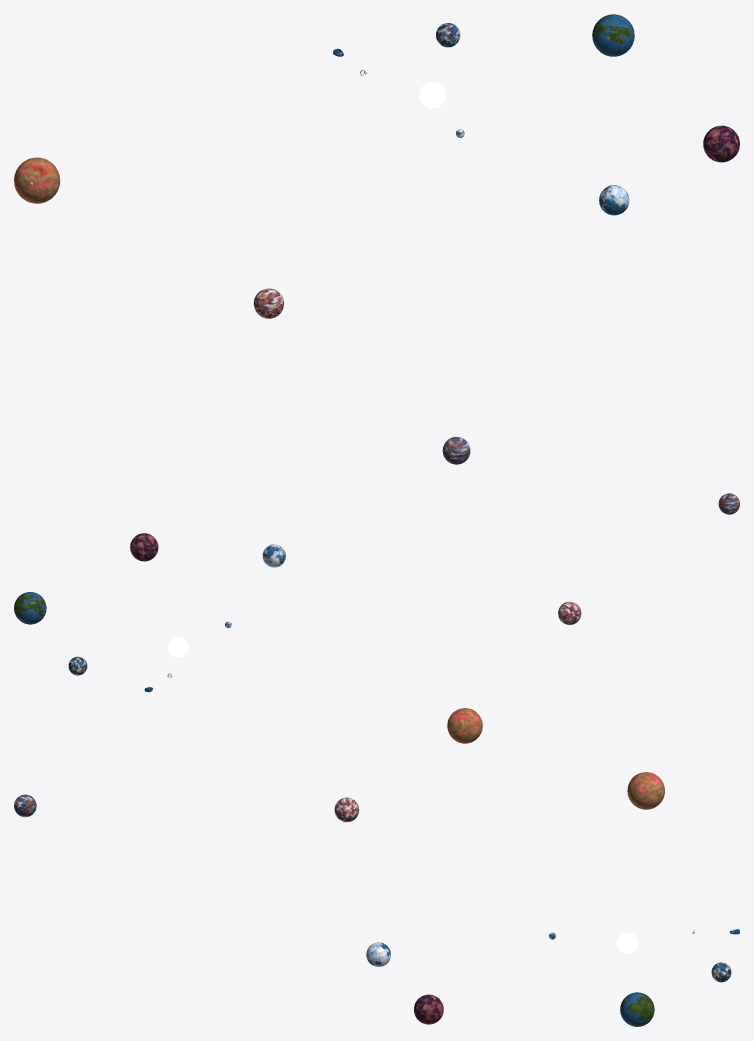
File: trito.glb
3 views of the same model, one above another, from view 1: azimuth 30°, elevation 25°; view 2: azimuth 150°, elevation 25°; view 3: azimuth 270°, elevation 25° (orthographic). The views are drawn at different scales.
Parts seen in each view (by area): view 1: Sphere.003_0, Sphere.008_0, Sphere.006_0, Sphere.005_0, Sphere.002_0; view 2: Sphere.003_0, Sphere.008_0, Sphere.006_0, Sphere.005_0, Sphere.002_0; view 3: Sphere.003_0, Sphere.008_0, Sphere.006_0, Sphere.005_0, Sphere.002_0.
Boxes of the visible parts, bbox=[...] form: Sphere.003_0: bbox=[14, 157, 60, 203]; Sphere.008_0: bbox=[592, 14, 634, 56]; Sphere.006_0: bbox=[703, 125, 739, 162]; Sphere.005_0: bbox=[599, 185, 629, 215]; Sphere.002_0: bbox=[253, 288, 283, 318]; Sphere.003_0: bbox=[447, 708, 482, 743]; Sphere.008_0: bbox=[14, 592, 46, 624]; Sphere.006_0: bbox=[130, 533, 158, 561]; Sphere.005_0: bbox=[262, 544, 285, 567]; Sphere.002_0: bbox=[558, 601, 581, 624]; Sphere.003_0: bbox=[627, 772, 664, 809]; Sphere.008_0: bbox=[620, 992, 654, 1026]; Sphere.006_0: bbox=[414, 994, 443, 1024]; Sphere.005_0: bbox=[366, 942, 390, 966]; Sphere.002_0: bbox=[334, 797, 359, 822].
Bounding box in the file's own units: 635 × 49.79 × 806.
Materials: 23 (10 with a texture image).
